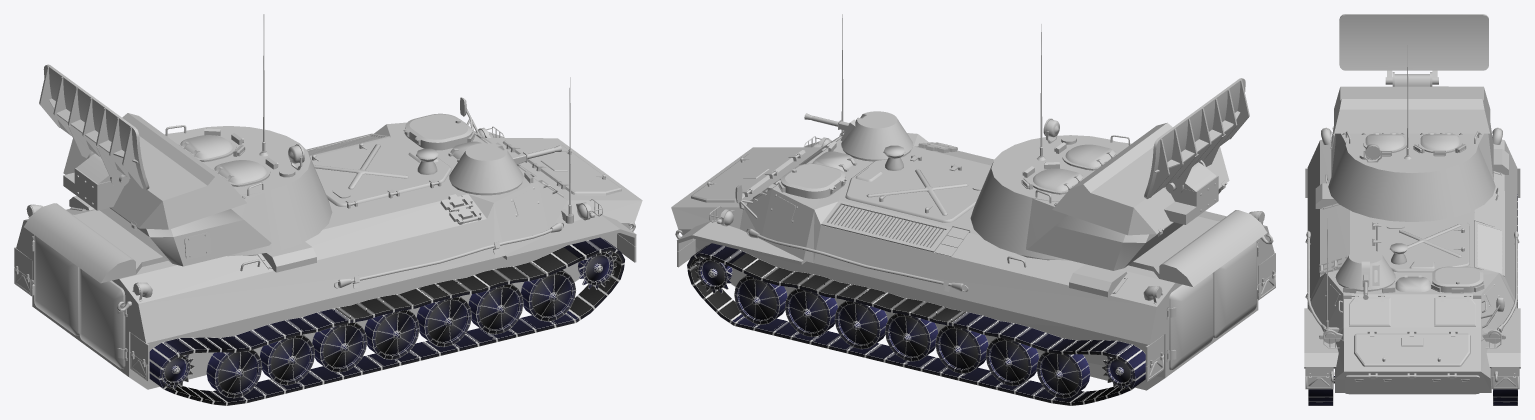
Rendered from SNAR-10.fbx.
3 views of the same model, side by side, from view 1: azimuth 30°, elevation 25°; view 2: azimuth 150°, elevation 25°; view 3: azimuth 270°, elevation 25° (orthographic). The views are drawn at different scales.
Parts seen in each view (by area): view 1: SNAR-10, Head, Gus, Radar, Machingun, Snar_weel, Snar_weel002, Snar_weel004, Snar_weel003, Snar_weel001, Snar_weel005, Snar_weel006 (+2 smaller); view 2: SNAR-10, Head, Gus, Radar, Machingun, Snar_weel007, Snar_weel009, Snar_weel011, Snar_weel008, Snar_weel010, Snar_weel012, Snar_weel013 (+2 smaller); view 3: SNAR-10, Head, Radar, Machingun, Gus.
Part boxes in pixels (box(x1,y1,x2,y2)): SNAR-10: box(14, 77, 642, 389); Head: box(63, 14, 332, 266); Gus: box(149, 237, 625, 405); Radar: box(39, 64, 149, 190); Machingun: box(449, 142, 523, 193); Snar_weel: box(206, 350, 262, 398); Snar_weel002: box(312, 322, 367, 372); Snar_weel004: box(416, 296, 471, 346); Snar_weel003: box(364, 310, 419, 359); Snar_weel001: box(259, 334, 314, 385); Snar_weel005: box(468, 284, 523, 334); Snar_weel006: box(521, 270, 576, 321); SNAR-10: box(671, 14, 1275, 390); Head: box(970, 24, 1229, 270); Gus: box(687, 243, 1145, 405); Radar: box(1144, 78, 1249, 198); Machingun: box(840, 111, 913, 159); Snar_weel007: box(1036, 352, 1090, 398); Snar_weel009: box(935, 325, 988, 373); Snar_weel011: box(834, 300, 887, 349); Snar_weel008: box(985, 337, 1038, 386); Snar_weel010: box(885, 313, 938, 361); Snar_weel012: box(785, 288, 837, 336); Snar_weel013: box(734, 275, 787, 324); SNAR-10: box(1304, 127, 1520, 394); Head: box(1328, 45, 1495, 221); Radar: box(1339, 14, 1488, 84); Machingun: box(1335, 249, 1395, 289); Gus: box(1308, 194, 1517, 405).
Bounding box in the file's own units: 336 × 193 × 145.
